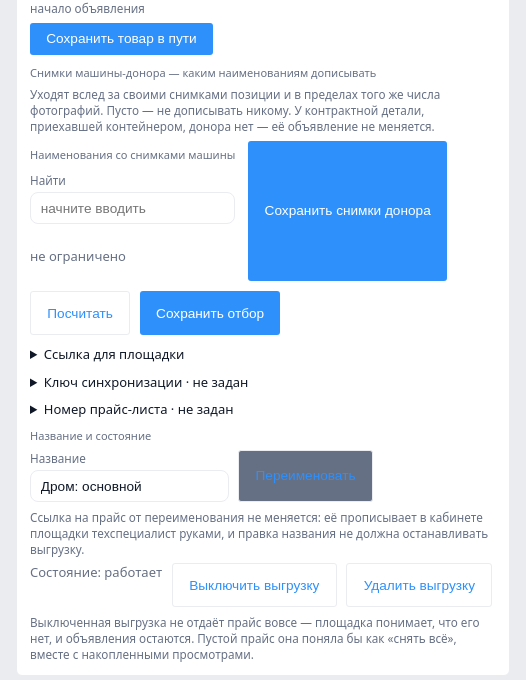
ссылка на прайс › показывает полный адрес и даёт скачать файл
(page scrolled)
What coordinates should you click on to do the following:
click the heading "Ссылка для площадки"
I would click on:
 (114, 354)
Its box is [44, 345, 184, 363].
(page scrolled)
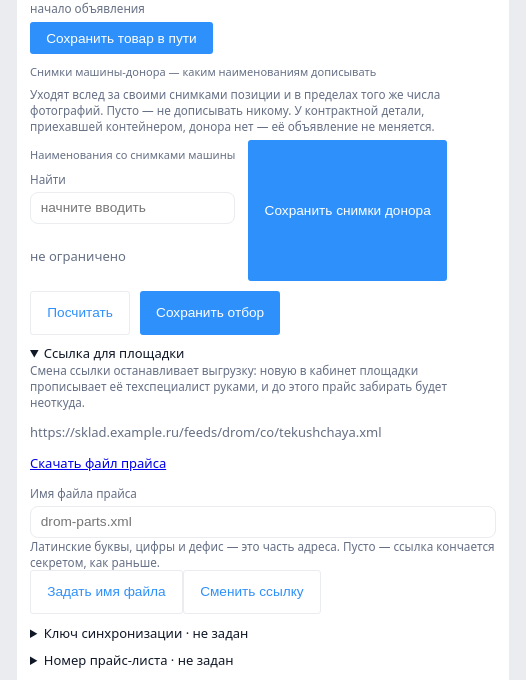
Check: the text "https://sklad.example.ru/feeds/drom/co/tekushchaya.xml" is shown, box [30, 423, 382, 441]
